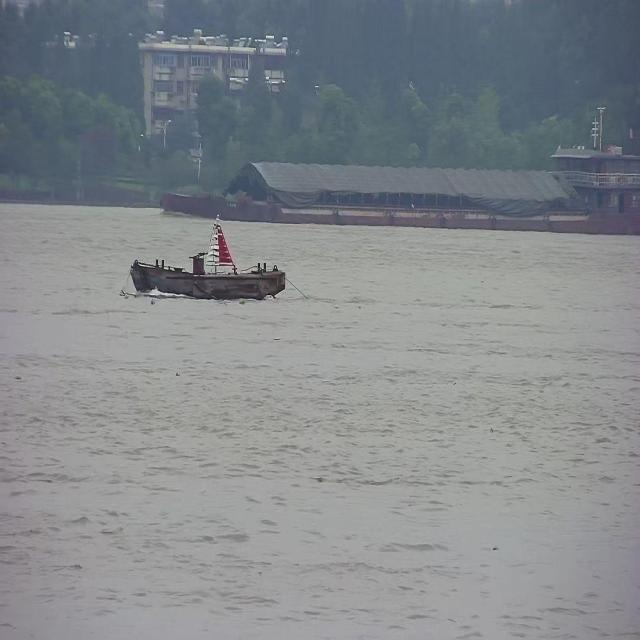ship2: (130, 225, 287, 302)
